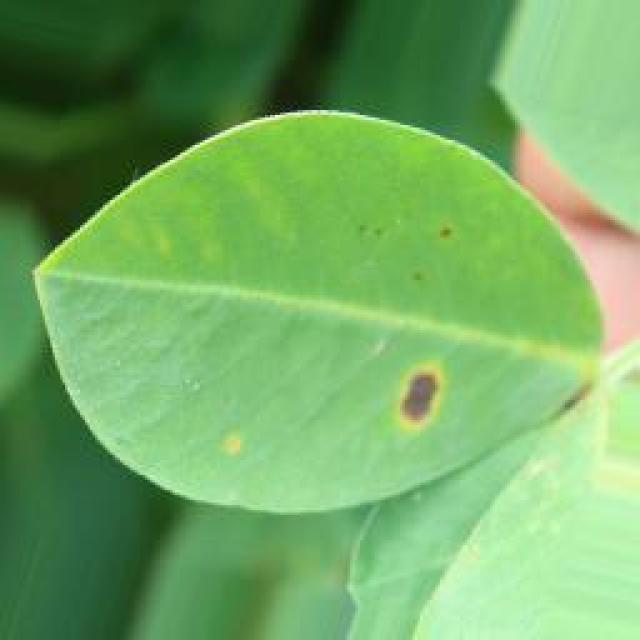Early_leaf_spot: (377, 320, 465, 456), (349, 219, 459, 302), (201, 423, 270, 481)
